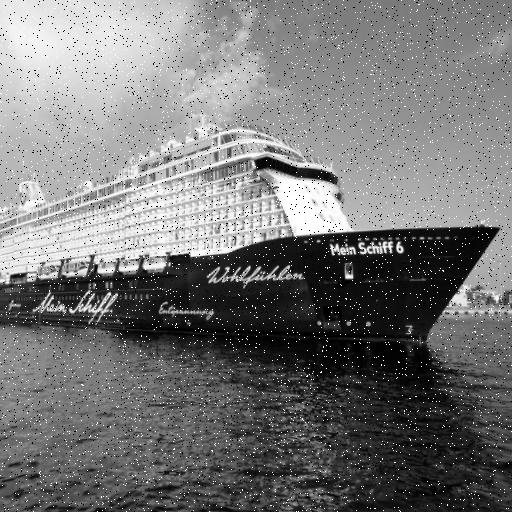cruises: (1, 118, 505, 354)
